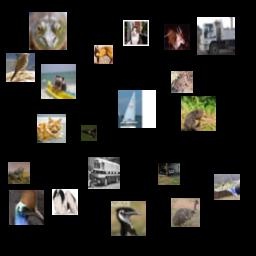airplane: (214, 174, 240, 200), (81, 125, 97, 141)
automobile: (158, 163, 180, 185)
bird: (9, 190, 44, 225), (111, 201, 146, 236), (6, 53, 35, 82), (171, 198, 200, 227)
cat: (37, 114, 66, 143), (123, 20, 149, 46)
deer: (164, 24, 190, 50), (94, 45, 113, 64)
dog: (52, 189, 78, 215)
frog: (29, 12, 67, 50), (181, 96, 216, 131), (8, 162, 30, 184), (171, 71, 193, 93)
ship: (118, 90, 156, 128), (41, 64, 76, 99)
truck: (197, 17, 235, 55), (88, 157, 120, 189)
